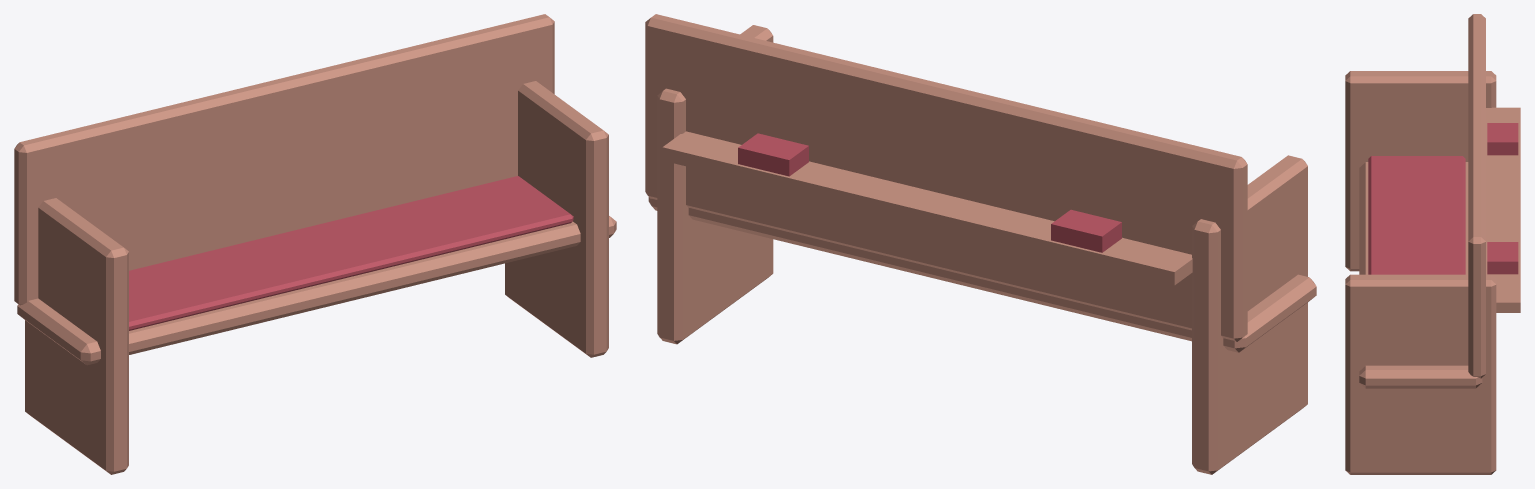
3 renders of one model, left to right at view 1: azimuth 30°, elevation 25°; view 2: azimuth 150°, elevation 25°; view 3: azimuth 270°, elevation 25°, orthographic. The views are drawn at different scales.
Parts seen in each view (by area): view 1: Back, Seat cushion, End panel, End panel.001, Seat; view 2: Back, End panel, Book rest, End panel.001, Seat, Hymnal cover.001, Hymnal cover; view 3: End panel.001, End panel, Seat cushion, Back, Book rest, Seat, Hymnal cover, Hymnal cover.001.
Part boxes in pixels (left/top/right/bottom): Back: left=14, top=14, right=554, bottom=305; Seat cushion: left=129, top=176, right=573, bottom=330; End panel: left=25, top=198, right=128, bottom=474; End panel.001: left=505, top=81, right=608, bottom=357; Seat: left=17, top=216, right=616, bottom=365; Back: left=645, top=14, right=1247, bottom=341; End panel: left=1192, top=155, right=1307, bottom=474; Book rest: left=662, top=131, right=1192, bottom=285; End panel.001: left=657, top=25, right=773, bottom=344; Seat: left=648, top=197, right=1316, bottom=352; Hymnal cover.001: left=738, top=133, right=808, bottom=176; Hymnal cover: left=1051, top=209, right=1121, bottom=252; End panel.001: left=1345, top=274, right=1496, bottom=474; End panel: left=1345, top=71, right=1496, bottom=271; Seat cushion: left=1368, top=156, right=1465, bottom=274; Back: left=1468, top=14, right=1485, bottom=378; Book rest: left=1486, top=107, right=1520, bottom=312; Seat: left=1359, top=162, right=1482, bottom=388; Hymnal cover: left=1487, top=123, right=1518, bottom=155; Hymnal cover.001: left=1487, top=242, right=1518, bottom=274.
Bounding box in the file's own units: 2.1 × 1.06 × 0.685.
1 material, 1 textured.
